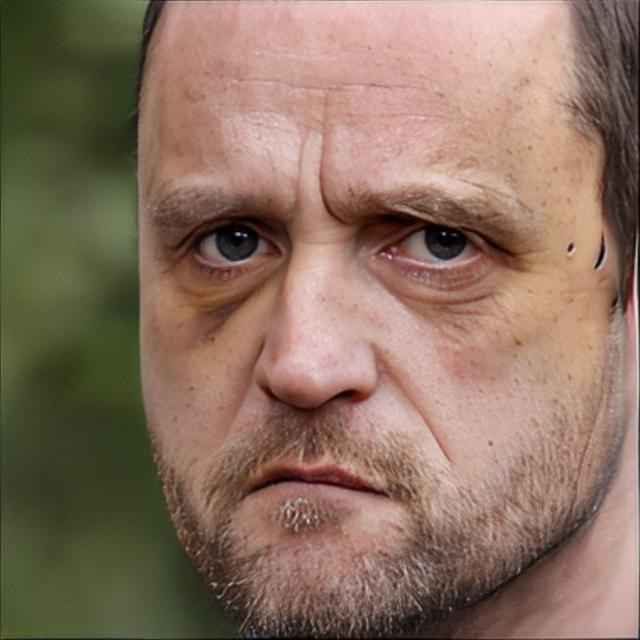anger: (134, 35, 604, 628)
